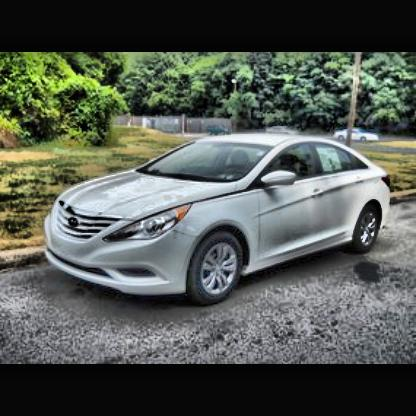Hyundai Sonata Sedan 2012: (42, 133, 395, 300)
